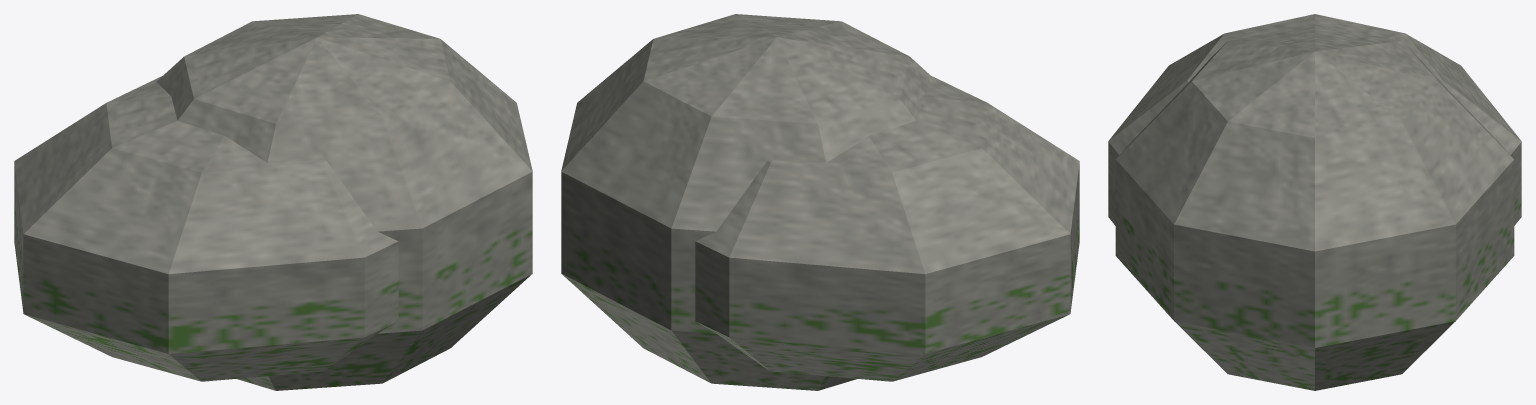
The model's file is prop_batu_a.glb.
3 renders of one model, left to right at view 1: azimuth 30°, elevation 25°; view 2: azimuth 150°, elevation 25°; view 3: azimuth 270°, elevation 25°, orthographic. The views are drawn at different scales.
Parts seen in each view (by area): view 1: batu_a; view 2: batu_a; view 3: batu_a.
Part boxes in pixels (box(x1,y1,x2,y2)): batu_a: box(14, 14, 532, 390); batu_a: box(561, 14, 1079, 390); batu_a: box(1108, 14, 1521, 390).
Bounding box in the file's own units: 1.15 × 0.7366 × 0.8837.
Materials: 1 (1 with a texture image).
